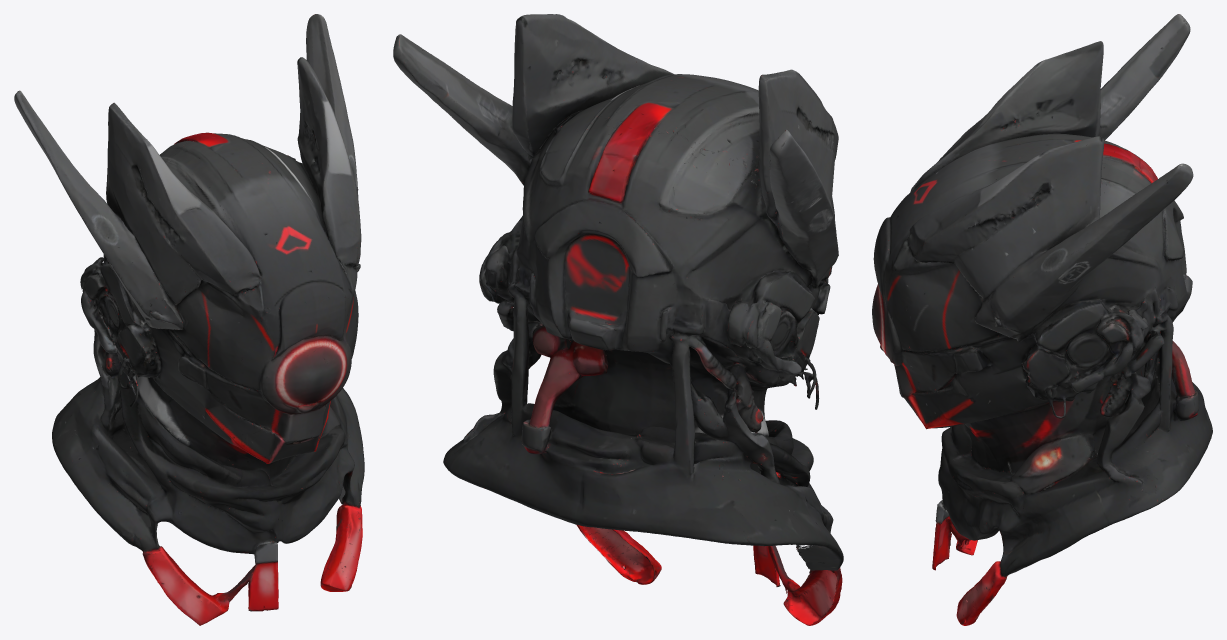
3 renders of one model, left to right at view 1: azimuth 30°, elevation 25°; view 2: azimuth 150°, elevation 25°; view 3: azimuth 270°, elevation 25°, orthographic. The views are drawn at different scales.
Size of the model in its own units: 1.33 by 1.99 by 1.22.
1 material, 1 textured.
